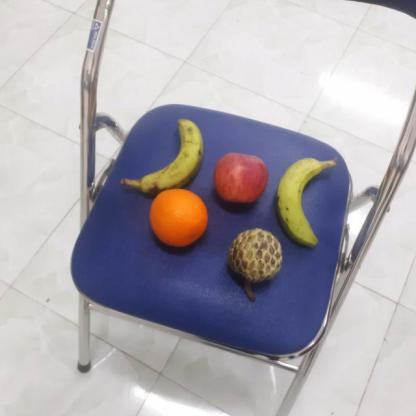annona: (226, 228, 286, 285)
apple: (209, 152, 266, 208)
banana: (128, 117, 206, 194), (273, 157, 338, 245)
orange: (146, 187, 206, 251)
